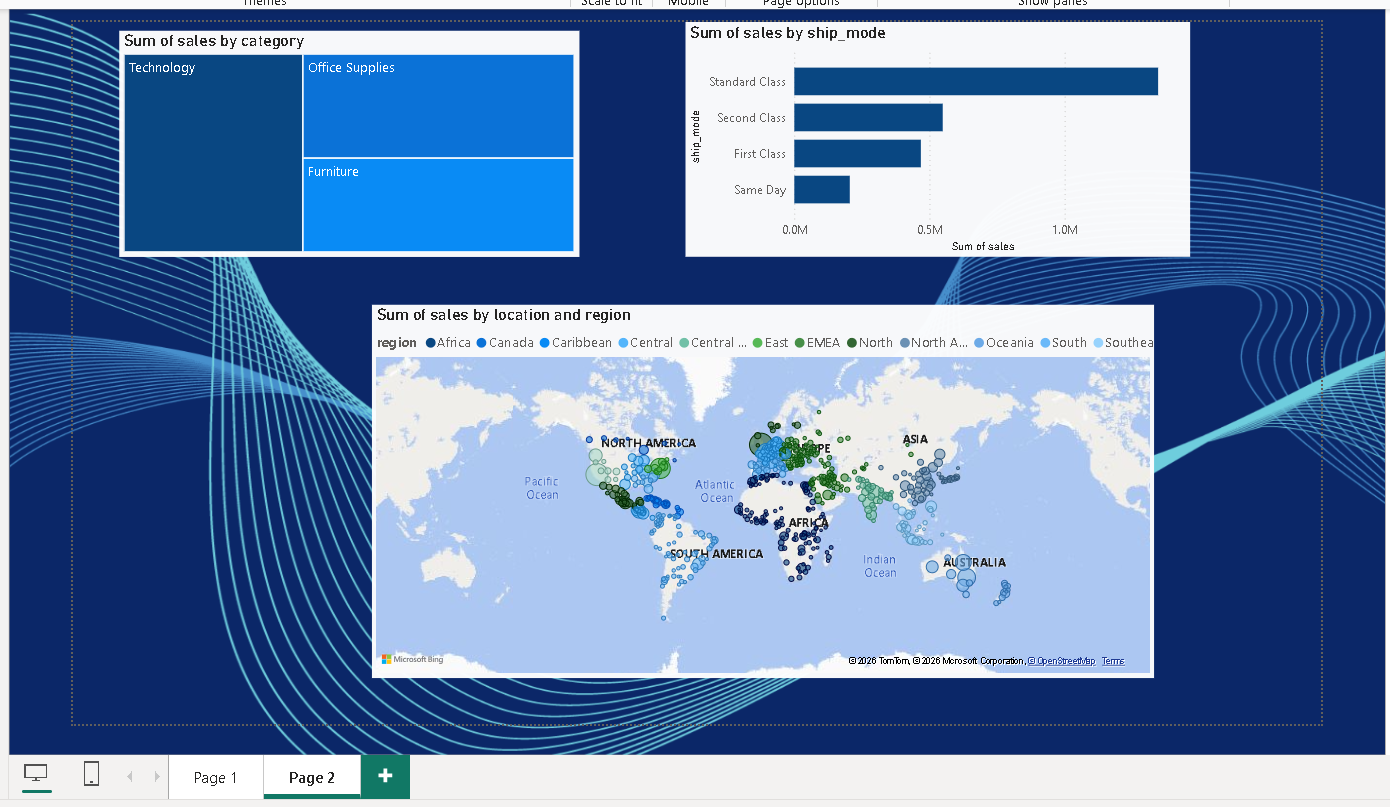

This screenshot's page, from the dashboard's own definition file:
{"tool":"powerbi","page":{"name":"Page 2","canvas":[1280,720],"ordinal":1},"visuals":[{"type":"map","fields":{"Series":["Superstore_Orders.region"],"Size":["Sum(Superstore_Orders.sales)"],"Category":["Superstore_Orders.location"]},"box":[306.4,289.7,802.6,383.3],"z":0},{"type":"treemap","fields":{"Group":["Superstore_Orders.category"],"Values":["Sum(Superstore_Orders.sales)"]},"box":[47.4,9,471.8,232.1],"z":1},{"type":"barChart","fields":{"Category":["Superstore_Orders.ship_mode"],"Y":["Sum(Superstore_Orders.sales)"]},"box":[628.2,0,517.9,241],"z":2}]}

Visuals, with their boxes on the page's 1280x720 design canvas (x1, y1, x2, y2). These are canvas units, not pixel positions in the 1390x807 screenshot, which may show the page scaled, cropped or inside an application window:
map - Superstore_Orders.region x Sum(Superstore_Orders.sales): x1=306 y1=290 x2=1109 y2=673
treemap - Superstore_Orders.category x Sum(Superstore_Orders.sales): x1=47 y1=9 x2=519 y2=241
barChart - Superstore_Orders.ship_mode x Sum(Superstore_Orders.sales): x1=628 y1=0 x2=1146 y2=241
